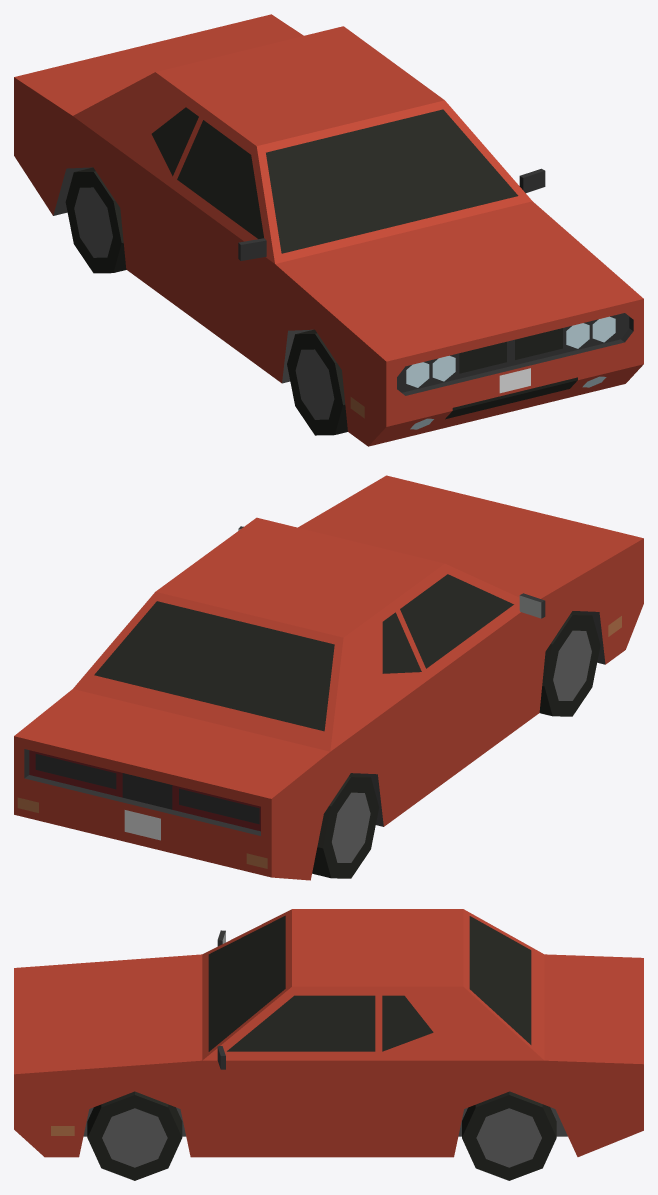
The model's file is Veh_Muscle_Car_01_Red.obj.
3 views of the same model, one above another, from view 1: azimuth 30°, elevation 25°; view 2: azimuth 150°, elevation 25°; view 3: azimuth 270°, elevation 25° (orthographic). The views are drawn at different scales.
Size of the model in its own units: 1.22 by 0.8156 by 2.59.
